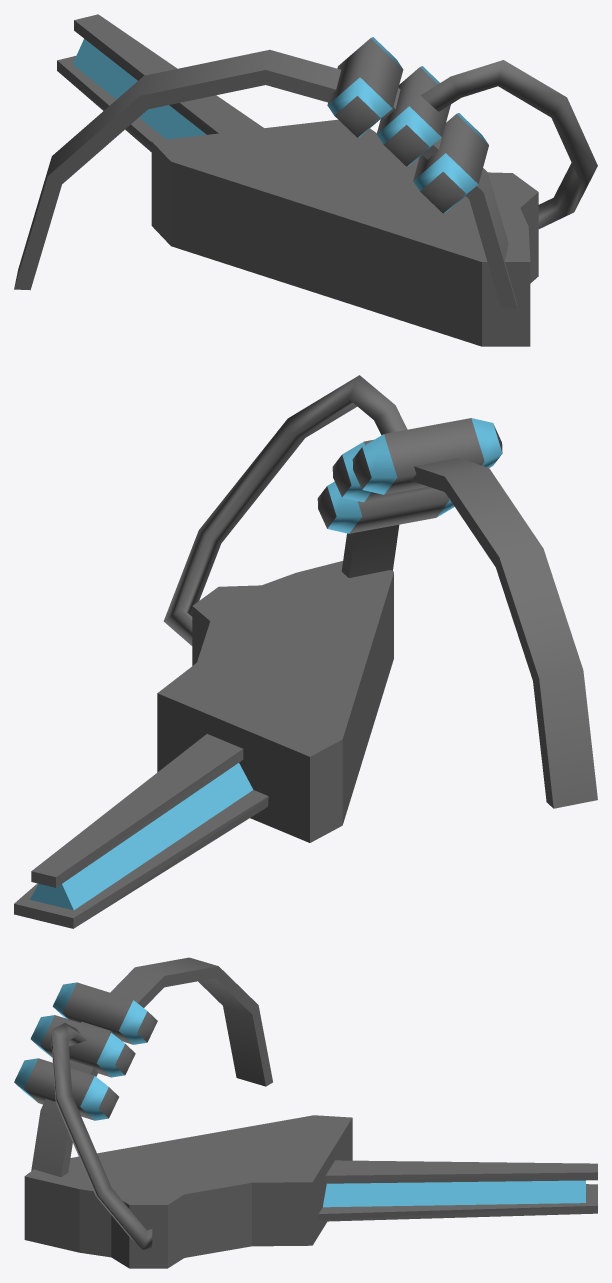
Rendered from PhotonRifle.FBX.
3 renders of one model, top to bottom at view 1: azimuth 30°, elevation 25°; view 2: azimuth 150°, elevation 25°; view 3: azimuth 270°, elevation 25°, orthographic. The views are drawn at different scales.
Visible parts, largest first — view 1: Line01, Object01, Object03, Object04, Object02; view 2: Line01, Object01, Object03, Object04; view 3: Line01, Object01, Object04, Object02, Object03.
Boxes of the visible parts, box(x1,y1,x2,y2) form: Line01: box(14, 14, 597, 346); Object01: box(72, 38, 206, 139); Object03: box(327, 37, 402, 137); Object04: box(413, 113, 488, 213); Object02: box(376, 66, 441, 166); Line01: box(14, 375, 597, 928); Object01: box(30, 763, 253, 910); Object03: box(362, 418, 502, 494); Object04: box(327, 481, 454, 533); Line01: box(24, 957, 597, 1268); Object01: box(323, 1180, 585, 1207); Object04: box(14, 1058, 108, 1120); Object02: box(30, 1015, 125, 1077); Object03: box(52, 982, 147, 1044).
Size of the model in its own units: 119 by 63.79 by 162.
